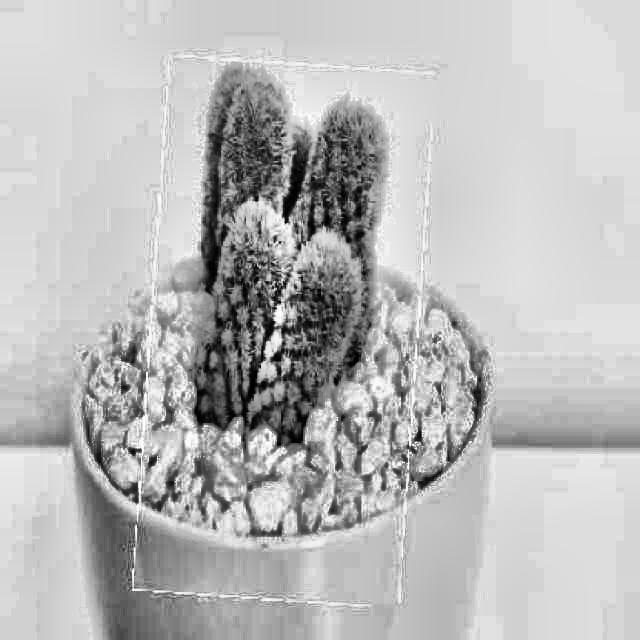plants: (142, 59, 426, 604)
